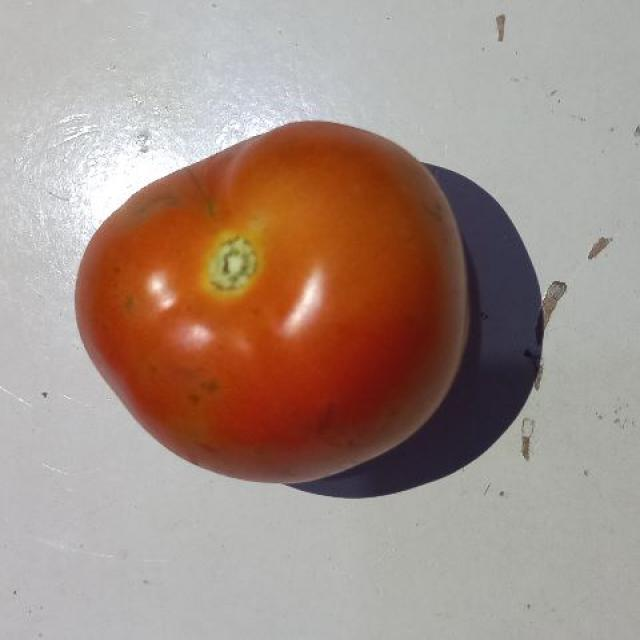ripe tomato: (72, 102, 474, 490)
